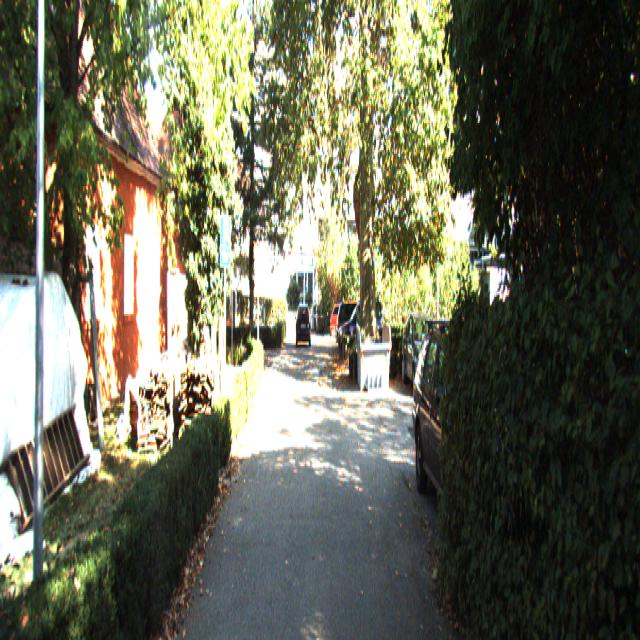Car: (411, 315, 542, 567), (402, 310, 448, 400), (338, 296, 386, 353), (296, 302, 312, 347)
